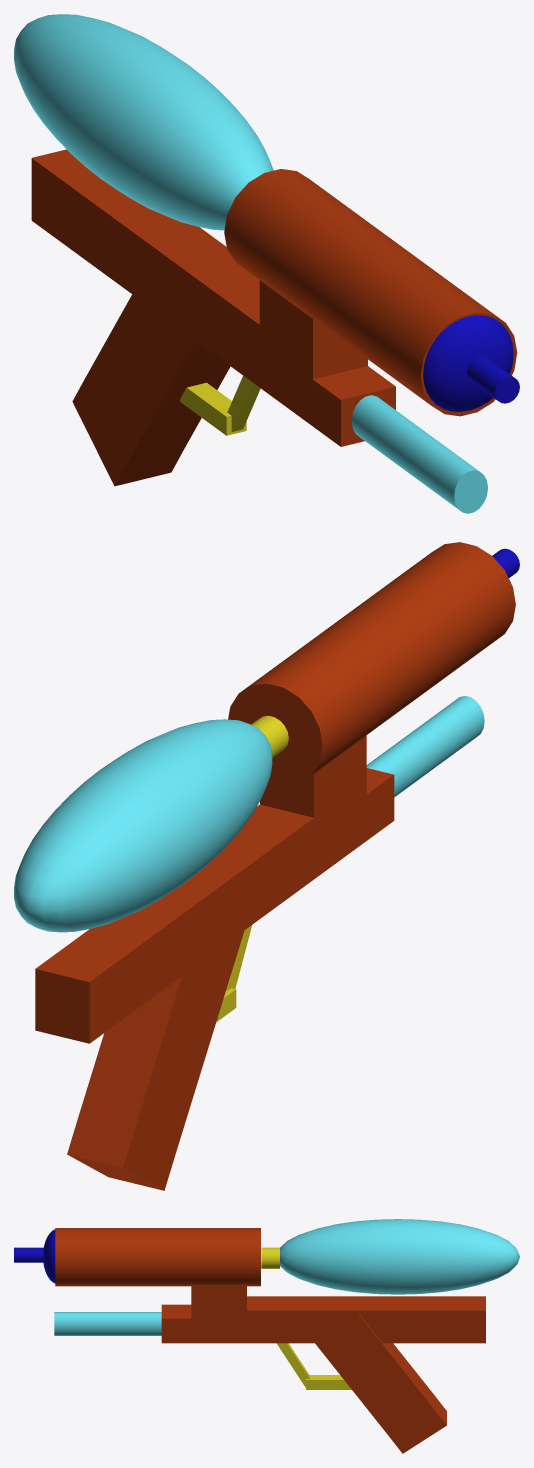
Rendered from Water Gun prefab.fbx.
3 views of the same model, one above another, from view 1: azimuth 30°, elevation 25°; view 2: azimuth 150°, elevation 25°; view 3: azimuth 270°, elevation 25° (orthographic). The views are drawn at different scales.
Parts seen in each view (by area): view 1: Box001, Sphere001, Cylinder003, Box002, Cylinder001, Sphere002, Box003, Cylinder004, Box004; view 2: Box001, Sphere001, Cylinder003, Box002, Cylinder001, Cylinder002; view 3: Box001, Sphere001, Cylinder003, Box002, Cylinder001, Box003, Sphere002, Box004, Cylinder004, Cylinder002.
Boxes of the visible parts, <box> form: Box001: <box>31,149,395,446</box>; Sphere001: <box>14,14,273,230</box>; Cylinder003: <box>224,169,517,416</box>; Box002: <box>72,294,230,486</box>; Cylinder001: <box>351,395,487,513</box>; Sphere002: <box>423,315,513,411</box>; Box003: <box>180,382,246,435</box>; Cylinder004: <box>467,356,519,403</box>; Box004: <box>227,375,260,431</box>; Box001: <box>35,735,394,1043</box>; Sphere001: <box>14,719,272,932</box>; Cylinder003: <box>228,542,515,785</box>; Box002: <box>67,930,244,1190</box>; Cylinder001: <box>366,696,484,797</box>; Cylinder002: <box>251,715,288,757</box>; Box001: <box>161,1285,485,1343</box>; Sphere001: <box>280,1219,519,1294</box>; Cylinder003: <box>55,1228,260,1286</box>; Box002: <box>315,1314,446,1453</box>; Cylinder001: <box>54,1312,161,1335</box>; Box003: <box>306,1375,351,1389</box>; Sphere002: <box>43,1229,55,1283</box>; Box004: <box>277,1343,310,1387</box>; Cylinder004: <box>14,1247,43,1262</box>; Cylinder002: <box>261,1247,279,1268</box>.
Size of the model in its own units: 109 by 360 by 738.
